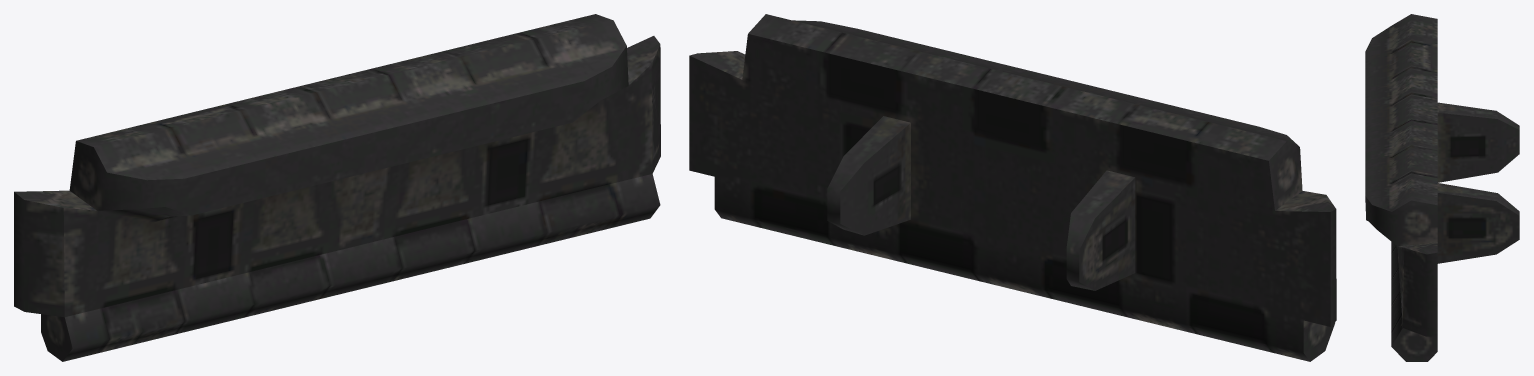
The picture shows the model from 3 angles, left to right: view 1: azimuth 30°, elevation 25°; view 2: azimuth 150°, elevation 25°; view 3: azimuth 270°, elevation 25°; orthographic projection. The views are drawn at different scales.
Visible parts, largest first — view 1: set_0_group_0; view 2: set_0_group_0; view 3: set_0_group_0.
Part boxes in pixels (x1,y1,x2,y2): set_0_group_0: (14, 14, 660, 361); set_0_group_0: (689, 14, 1336, 361); set_0_group_0: (1365, 14, 1519, 361).
Size of the model in its own units: 0.663 by 0.2016 by 0.1887.
Materials: 1 (1 with a texture image).
